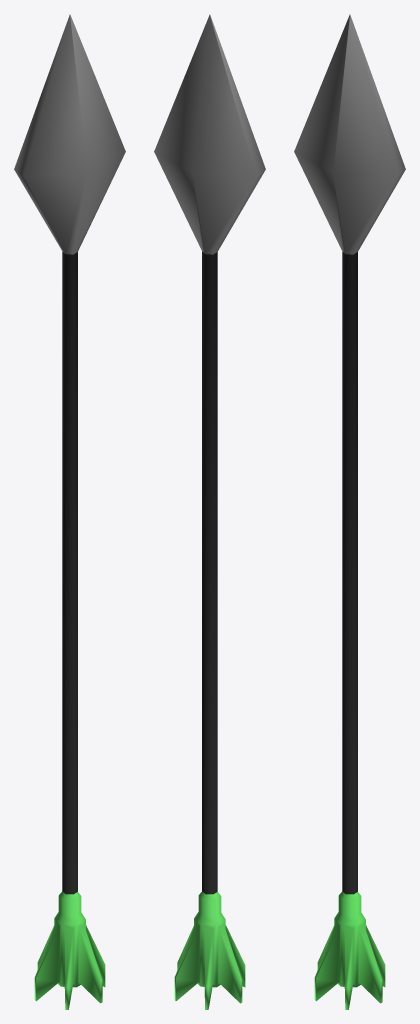
Rendered from arrow_002.fbx.
The picture shows the model from 3 angles, left to right: view 1: azimuth 30°, elevation 25°; view 2: azimuth 150°, elevation 25°; view 3: azimuth 330°, elevation 25°; orthographic projection.
Parts seen in each view (by area): view 1: Cube.003; view 2: Cube.003; view 3: Cube.003.
Boxes of the visible parts, x1,y1,x2,y2 form: Cube.003: (14,14,125,1009); Cube.003: (154,14,265,1009); Cube.003: (294,14,405,1009).
Bounding box in the file's own units: 3.92 × 36.04 × 2.35.
Materials: 1 (1 with a texture image).
